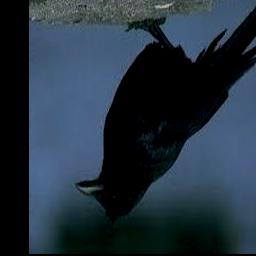Crow: (76, 0, 256, 221)
